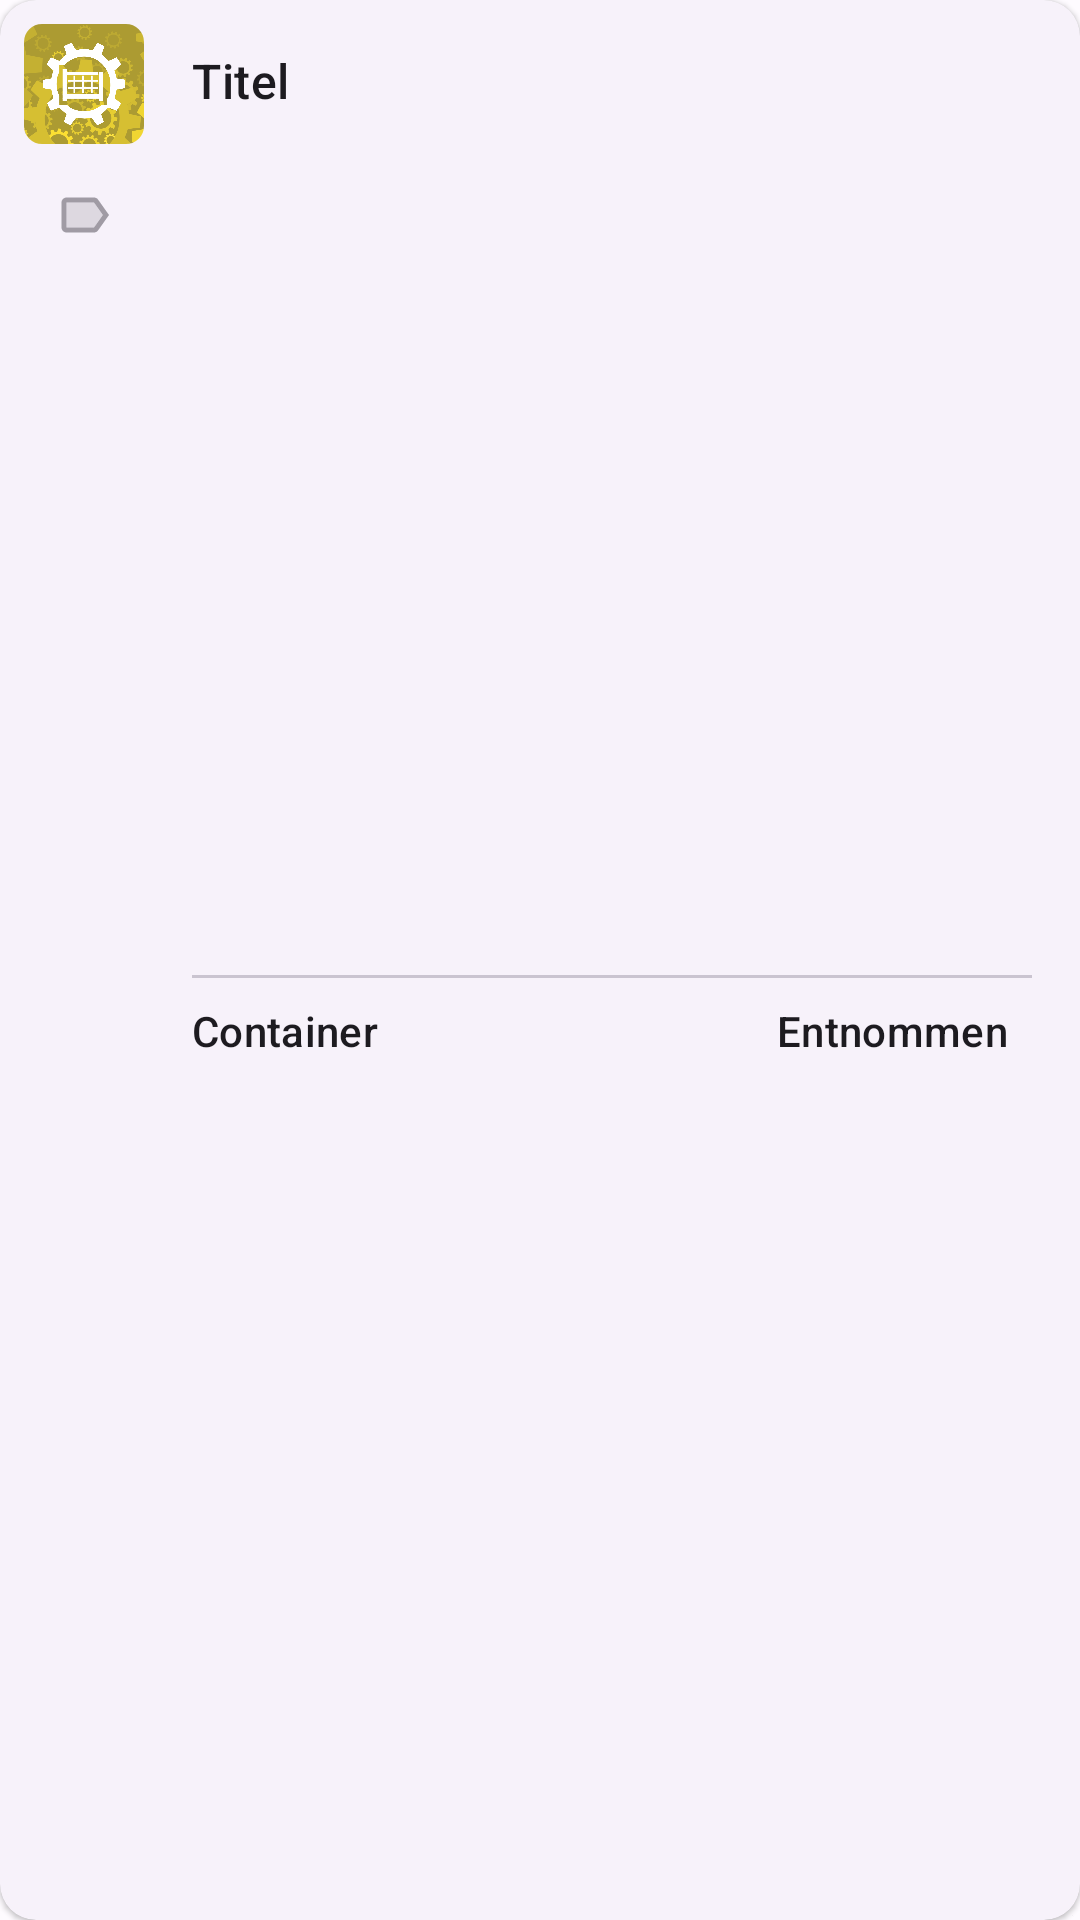

Where icons sit on this 1080px×1920px app screen, as (x1, y1, x2, y2):
label: (61, 197, 109, 233)
